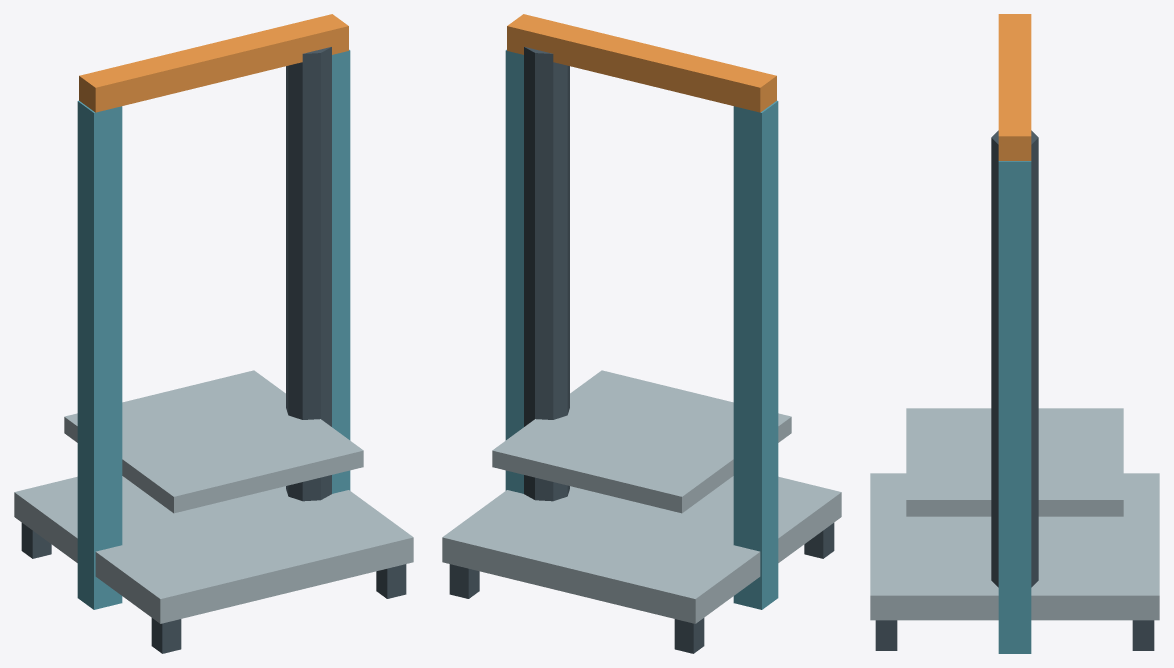
The model's file is vertical-pallet-lift.glb.
3 renders of one model, left to right at view 1: azimuth 30°, elevation 25°; view 2: azimuth 150°, elevation 25°; view 3: azimuth 270°, elevation 25°, orthographic.
Parts seen in each view (by area): view 1: steel, blue, dark, orange; view 2: steel, blue, dark, orange; view 3: steel, blue, dark, orange.
Part boxes in pixels (bbox=[...]): steel: bbox=[14, 370, 413, 623]; blue: bbox=[77, 49, 350, 609]; dark: bbox=[21, 47, 406, 653]; orange: bbox=[79, 14, 348, 112]; steel: bbox=[442, 370, 841, 623]; blue: bbox=[505, 49, 778, 609]; dark: bbox=[449, 47, 834, 653]; orange: bbox=[507, 14, 776, 112]; steel: bbox=[870, 408, 1159, 620]; blue: bbox=[998, 161, 1031, 653]; dark: bbox=[875, 130, 1154, 650]; orange: bbox=[998, 14, 1031, 160].
Bounding box in the file's own units: 1.62 × 3.15 × 1.6.
